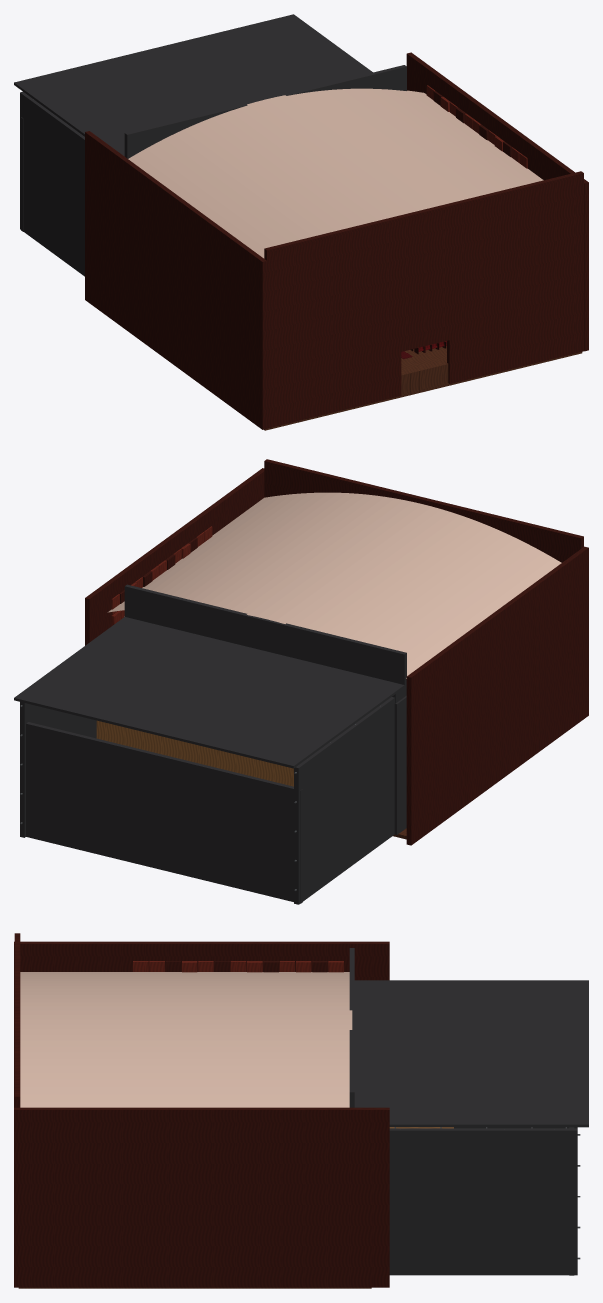
The model's file is grand-theatre.glb.
3 renders of one model, top to bottom at view 1: azimuth 30°, elevation 25°; view 2: azimuth 150°, elevation 25°; view 3: azimuth 270°, elevation 25°, orthographic. The views are drawn at different scales.
Parts seen in each view (by area): view 1: Grand_wood2, Grand_cream, Grand_black, Grand_floor_dark, Grand_wood; view 2: Grand_black, Grand_wood2, Grand_cream, GrandAcousticShell, Grand_wood; view 3: Grand_wood2, Grand_black, Grand_cream, Grand_wood, Grand_floor_dark.
Boxes of the visible parts, <box> form: Grand_wood2: <box>85,52,588,429</box>; Grand_cream: <box>128,88,543,258</box>; Grand_black: <box>14,14,406,276</box>; Grand_floor_dark: <box>264,346,582,430</box>; Grand_wood: <box>426,85,527,168</box>; Grand_black: <box>14,584,406,904</box>; Grand_wood2: <box>85,459,588,845</box>; Grand_cream: <box>107,492,561,678</box>; GrandAcousticShell: <box>96,720,293,786</box>; Grand_wood: <box>111,526,212,625</box>; Grand_wood2: <box>14,933,389,1287</box>; Grand_black: <box>349,948,588,1275</box>; Grand_cream: <box>20,972,352,1107</box>; Grand_wood: <box>133,961,343,972</box>; Grand_floor_dark: <box>18,1287,371,1288</box>.
Bounding box in the file's own units: 35 × 18.6 × 50.5.
16 materials, 9 textured.
